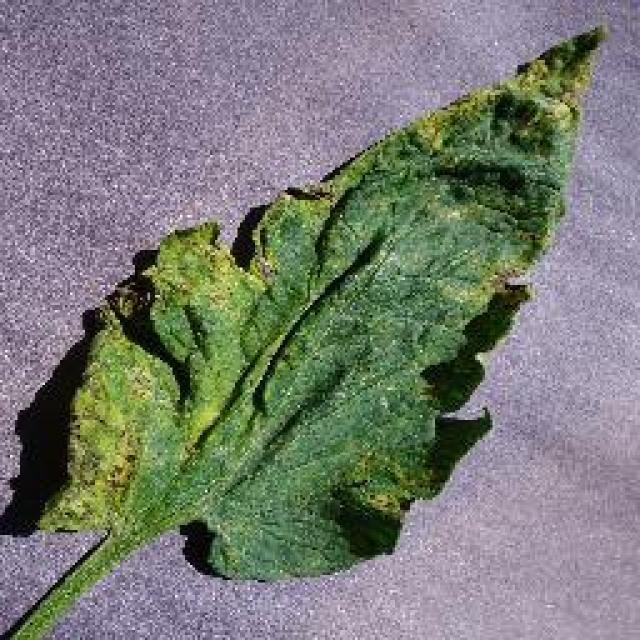Tomato target spot leaf: (39, 23, 611, 585)
